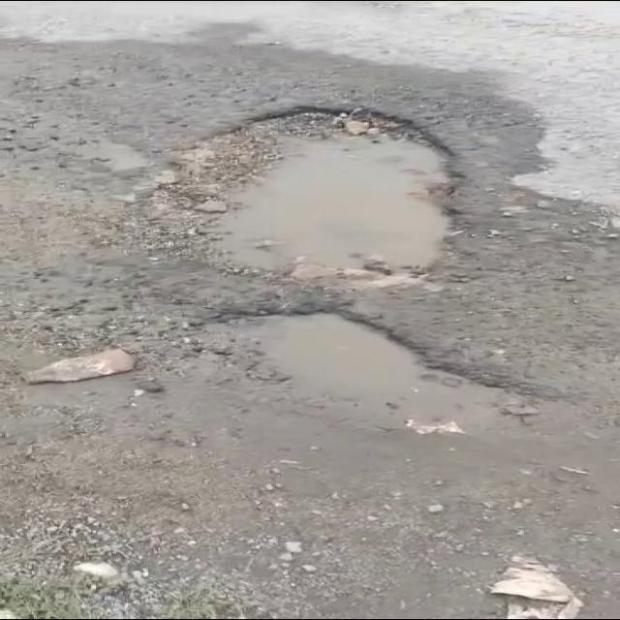lubang: (148, 112, 449, 314), (175, 315, 535, 442)
